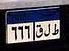6: (11, 26, 18, 41), (24, 25, 32, 38), (18, 26, 24, 40)
Taa: (52, 24, 59, 36)
laam: (43, 24, 51, 37)
qaaf: (35, 25, 43, 38)
